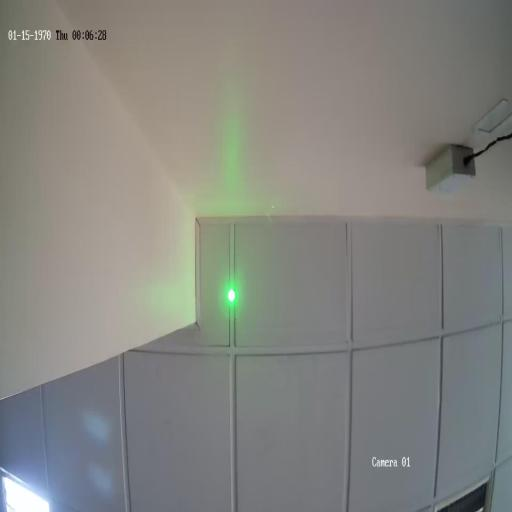laser: (225, 282, 237, 309)
